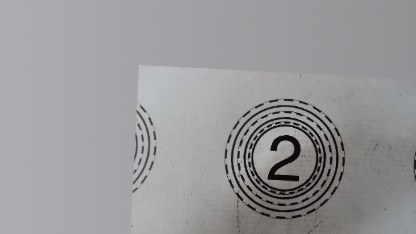2r: (218, 92, 349, 224)
